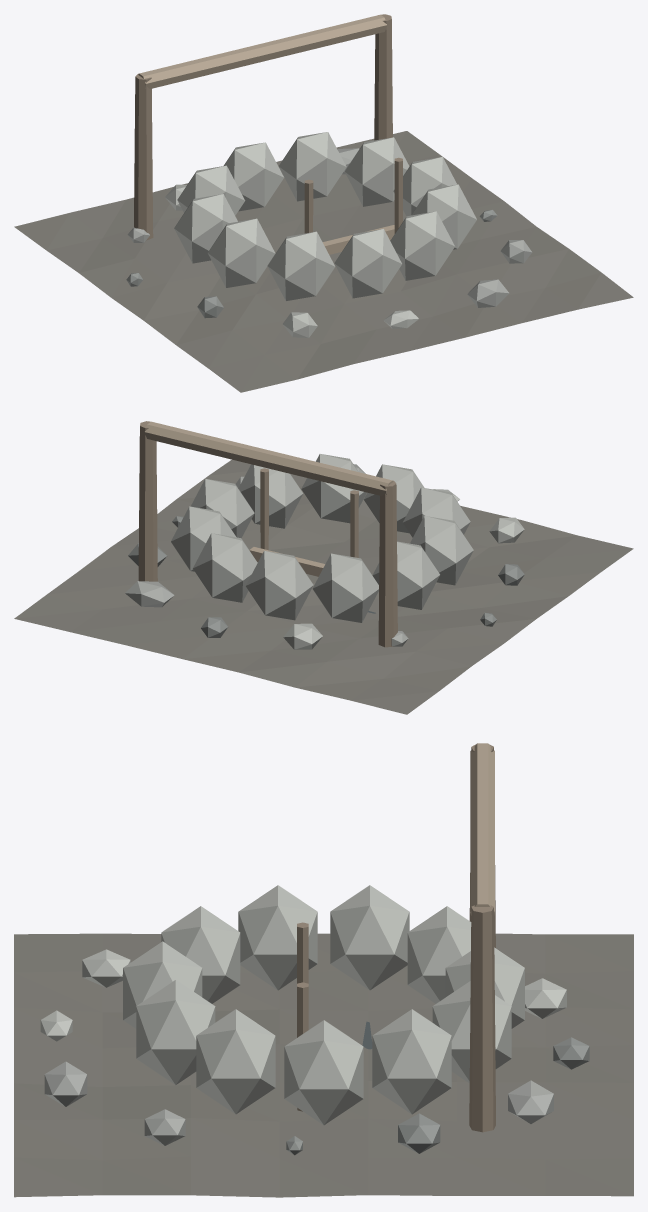
The model's file is dry_well_ladder_revealed.glb.
3 views of the same model, one above another, from view 1: azimuth 30°, elevation 25°; view 2: azimuth 150°, elevation 25°; view 3: azimuth 270°, elevation 25° (orthographic). The views are drawn at different scales.
Parts seen in each view (by area): view 1: dry_well_ladder_revealed_color_00, dry_well_ladder_revealed_color_03, dry_well_ladder_revealed_color_06, dry_well_ladder_revealed_color_05, dry_well_ladder_revealed_color_02, dry_well_ladder_revealed_color_01; view 2: dry_well_ladder_revealed_color_00, dry_well_ladder_revealed_color_03, dry_well_ladder_revealed_color_06, dry_well_ladder_revealed_color_05, dry_well_ladder_revealed_color_01, dry_well_ladder_revealed_color_02; view 3: dry_well_ladder_revealed_color_00, dry_well_ladder_revealed_color_03, dry_well_ladder_revealed_color_06, dry_well_ladder_revealed_color_02, dry_well_ladder_revealed_color_05, dry_well_ladder_revealed_color_01.
Boxes of the visible parts, x1,y1,x2,y2 form: dry_well_ladder_revealed_color_00: (14, 131, 633, 392); dry_well_ladder_revealed_color_03: (165, 132, 476, 337); dry_well_ladder_revealed_color_06: (134, 14, 402, 240); dry_well_ladder_revealed_color_05: (138, 14, 394, 254); dry_well_ladder_revealed_color_02: (127, 148, 532, 307); dry_well_ladder_revealed_color_01: (126, 210, 497, 318); dry_well_ladder_revealed_color_00: (14, 459, 633, 714); dry_well_ladder_revealed_color_03: (171, 454, 524, 649); dry_well_ladder_revealed_color_06: (138, 421, 397, 647); dry_well_ladder_revealed_color_05: (144, 421, 393, 576); dry_well_ladder_revealed_color_01: (128, 516, 524, 637); dry_well_ladder_revealed_color_02: (125, 464, 408, 646); dry_well_ladder_revealed_color_00: (14, 933, 633, 1197); dry_well_ladder_revealed_color_03: (40, 885, 566, 1125); dry_well_ladder_revealed_color_06: (297, 744, 495, 1132); dry_well_ladder_revealed_color_02: (44, 1061, 553, 1145); dry_well_ladder_revealed_color_05: (470, 743, 494, 915); dry_well_ladder_revealed_color_01: (286, 1037, 589, 1155).
Size of the model in its own units: 2.93 by 1.55 by 2.93.
